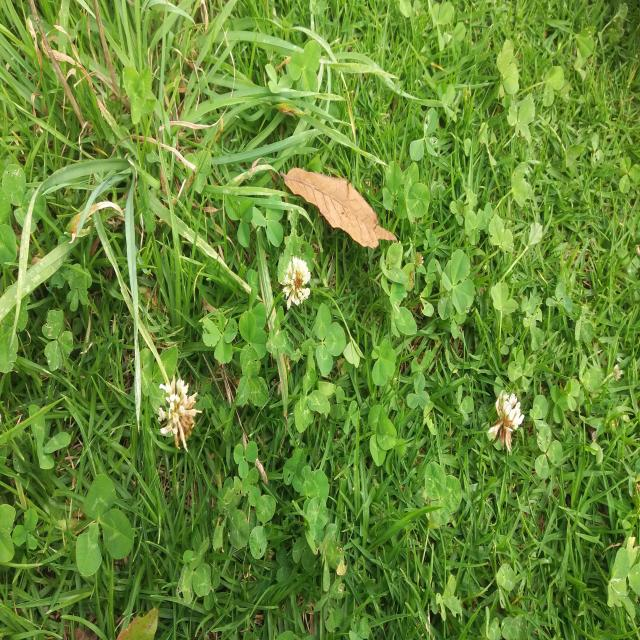Four Leaf Clover: (441, 249, 475, 314), (201, 307, 238, 363), (371, 338, 396, 386)
